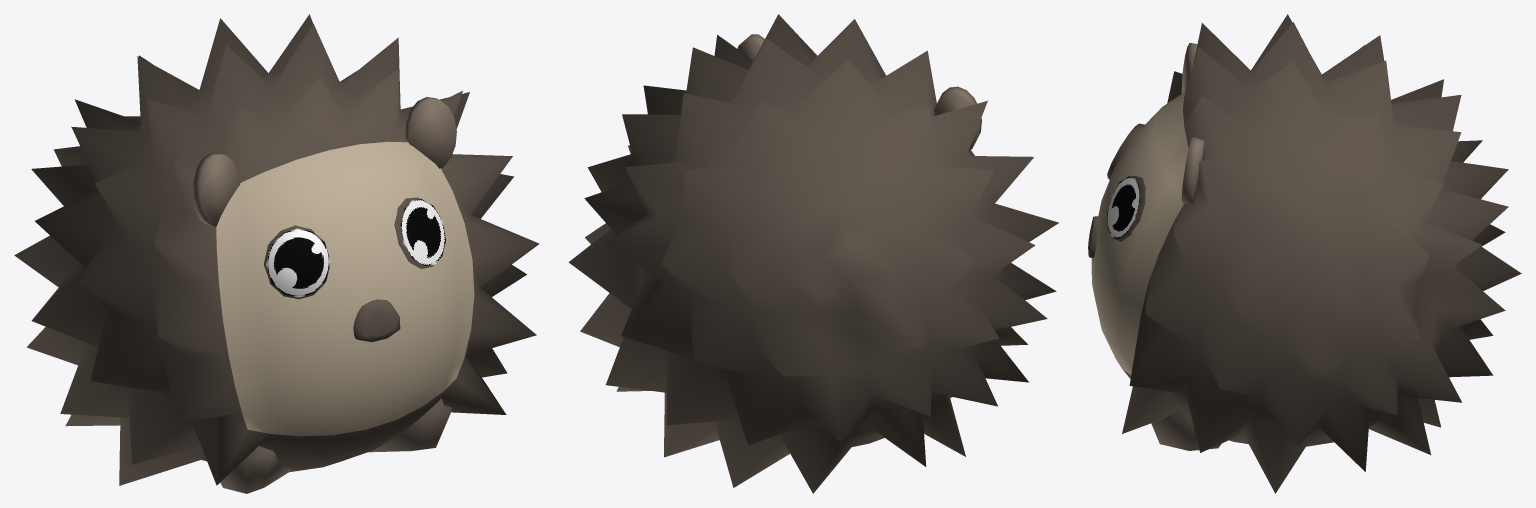
Rendered from hedgehog_sphere_model1.fbx.
3 views of the same model, side by side, from view 1: azimuth 30°, elevation 25°; view 2: azimuth 150°, elevation 25°; view 3: azimuth 270°, elevation 25° (orthographic). The views are drawn at different scales.
Visible parts, largest first — view 1: hedgehog_sphere_test.001; view 2: hedgehog_sphere_test.001; view 3: hedgehog_sphere_test.001.
Part boxes in pixels (box(x1,y1,x2,y2)): hedgehog_sphere_test.001: box(14, 14, 539, 493); hedgehog_sphere_test.001: box(568, 14, 1058, 493); hedgehog_sphere_test.001: box(1088, 14, 1521, 493).
Size of the model in its own units: 124 by 111 by 113.
